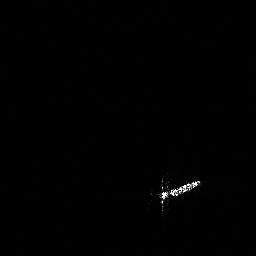ship: (151, 175, 205, 214)
